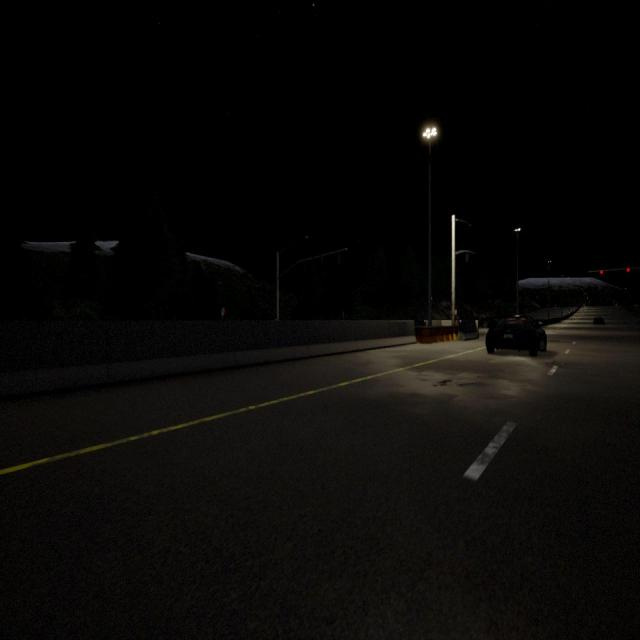Vehicle: (486, 315, 546, 356), (592, 316, 606, 326)
traffic_light: (466, 252, 469, 262), (626, 268, 630, 272), (600, 270, 603, 275)
